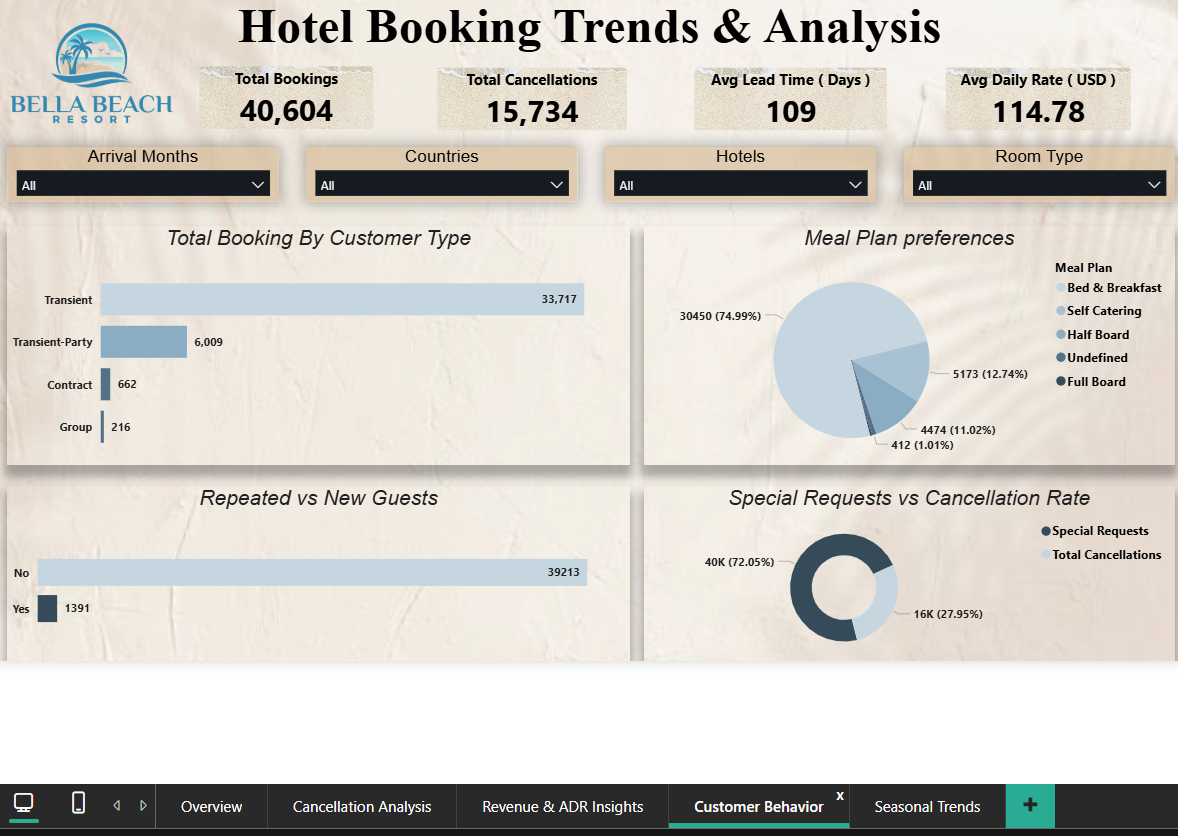

What the dashboard file says about the page in this screenshot:
{"tool":"powerbi","page":{"name":"Customer Behavior","canvas":[1280,720],"ordinal":3},"visuals":[{"type":"slicer","title":"Hotels","fields":{"Values":["hotel_revenue.hotel"]},"box":[655.8,166.3,293,59.3],"z":0},{"type":"slicer","title":"Countries","fields":{"Values":["hotel_revenue.Country Full Name"]},"box":[333.7,166.3,293,59.3],"z":1000},{"type":"textbox","box":[82.2,0,1115.9,86.3],"z":2000},{"type":"slicer","title":"Arrival Months","fields":{"Values":["hotel_revenue.arrival_date_month"]},"box":[12.8,166.3,293,59.3],"z":3000},{"type":"image","box":[12.8,0,181.4,173.3],"z":4000},{"type":"cardVisual","fields":{"Data":["Measure.Avg Lead Time"]},"box":[735.8,63.3,242.6,102.4],"z":5000},{"type":"cardVisual","fields":{"Data":["Measure.Cancellation Rate"]},"box":[458.2,63.3,239.9,102.4],"z":6000},{"type":"cardVisual","fields":{"Data":["Measure.Total Bookings"]},"box":[202.1,62,222.4,102.4],"z":7000},{"type":"cardVisual","fields":{"Data":["Measure.Avg Daily Rate"]},"box":[1006.7,63.3,234.5,102.4],"z":8000},{"type":"slicer","title":"Room Type","fields":{"Values":["hotel_revenue.assigned_room_type"]},"box":[977.9,166.3,293,59.3],"z":9000},{"type":"clusteredBarChart","title":"Total Booking By Customer Type","fields":{"Category":["hotel_revenue.customer_type"],"Y":["Measure.Total Bookings"]},"box":[12.1,250.7,671.1,258.8],"z":10000},{"type":"pieChart","title":"Meal Plan preferences","fields":{"Category":["hotel_revenue.Meal Plan"],"Y":["Measure.Total Bookings"]},"box":[698.1,250.7,572.8,258.8],"z":11000},{"type":"donutChart","title":"Special Requests vs Cancellation Rate","fields":{"Y":["CountNonNull(hotel_revenue.total_of_special_requests)","Measure.Total Cancellations"]},"box":[698.1,531,572.8,188.7],"z":12000},{"type":"clusteredBarChart","title":"Repeated vs New Guests","fields":{"Category":["hotel_revenue.is_repeated_guest"],"Y":["Measure.Total Bookings"]},"box":[12.1,531,671.1,188.7],"z":13000}]}

Visuals, with their boxes on the page's 1280x720 design canvas (x1, y1, x2, y2). These are canvas units, not pixel positions in the 1178x836 screenshot, which may show the page scaled, cropped or inside an application window:
"Hotels" slicer: pyautogui.locateOnScreen(656, 166, 949, 226)
"Countries" slicer: pyautogui.locateOnScreen(334, 166, 627, 226)
textbox: pyautogui.locateOnScreen(82, 0, 1198, 86)
"Arrival Months" slicer: pyautogui.locateOnScreen(13, 166, 306, 226)
image: pyautogui.locateOnScreen(13, 0, 194, 173)
cardVisual - Measure.Avg Lead Time: pyautogui.locateOnScreen(736, 63, 978, 166)
cardVisual - Measure.Cancellation Rate: pyautogui.locateOnScreen(458, 63, 698, 166)
cardVisual - Measure.Total Bookings: pyautogui.locateOnScreen(202, 62, 424, 164)
cardVisual - Measure.Avg Daily Rate: pyautogui.locateOnScreen(1007, 63, 1241, 166)
"Room Type" slicer: pyautogui.locateOnScreen(978, 166, 1271, 226)
"Total Booking By Customer Type" clusteredBarChart: pyautogui.locateOnScreen(12, 251, 683, 510)
"Meal Plan preferences" pieChart: pyautogui.locateOnScreen(698, 251, 1271, 510)
"Special Requests vs Cancellation Rate" donutChart: pyautogui.locateOnScreen(698, 531, 1271, 720)
"Repeated vs New Guests" clusteredBarChart: pyautogui.locateOnScreen(12, 531, 683, 720)
